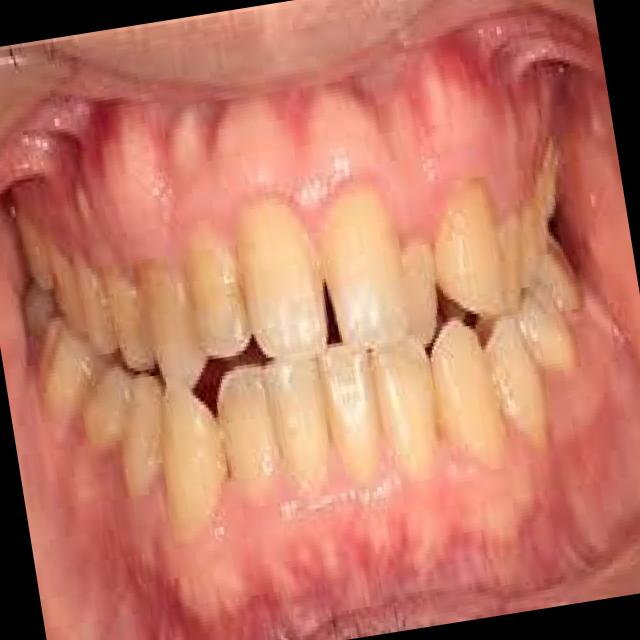Tooth: (238, 202, 328, 358), (322, 193, 410, 349), (431, 316, 508, 465), (162, 376, 228, 528), (433, 177, 505, 316), (135, 257, 207, 392), (266, 353, 333, 494), (483, 315, 551, 449), (371, 336, 440, 466), (322, 345, 382, 478), (217, 364, 283, 484), (186, 243, 252, 359), (39, 317, 116, 413), (513, 282, 581, 372), (121, 370, 167, 496), (98, 275, 157, 371), (72, 245, 118, 356), (479, 215, 524, 323), (402, 240, 438, 348), (47, 244, 89, 336), (533, 236, 583, 312), (83, 370, 134, 442), (17, 219, 58, 293), (533, 136, 559, 232), (519, 198, 547, 287), (23, 280, 55, 334)
